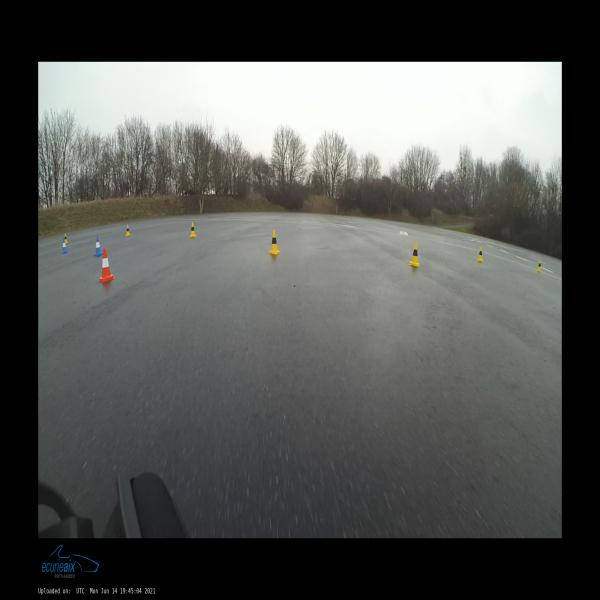blue_cone: (94, 236, 102, 256), (61, 240, 68, 254)
orange_cone: (99, 249, 115, 283)
yellow_cone: (268, 230, 280, 255), (409, 243, 420, 267), (190, 222, 196, 237), (477, 248, 483, 262), (126, 225, 130, 236), (537, 261, 541, 272), (65, 234, 68, 243)
